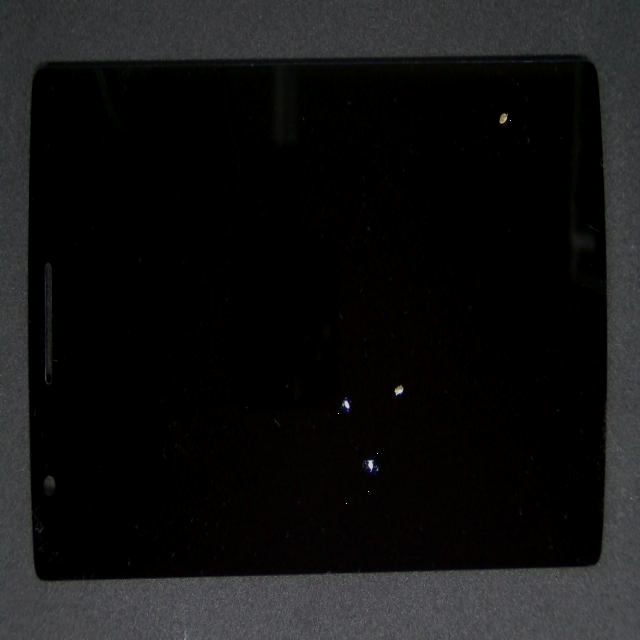stain: (173, 175, 576, 603), (145, 205, 536, 640), (177, 173, 501, 594), (273, 57, 640, 160)
